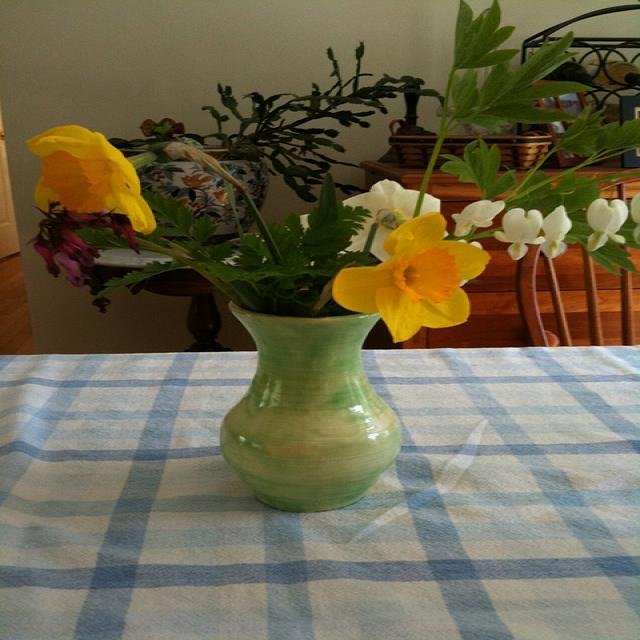dining table: (0, 343, 640, 632)
